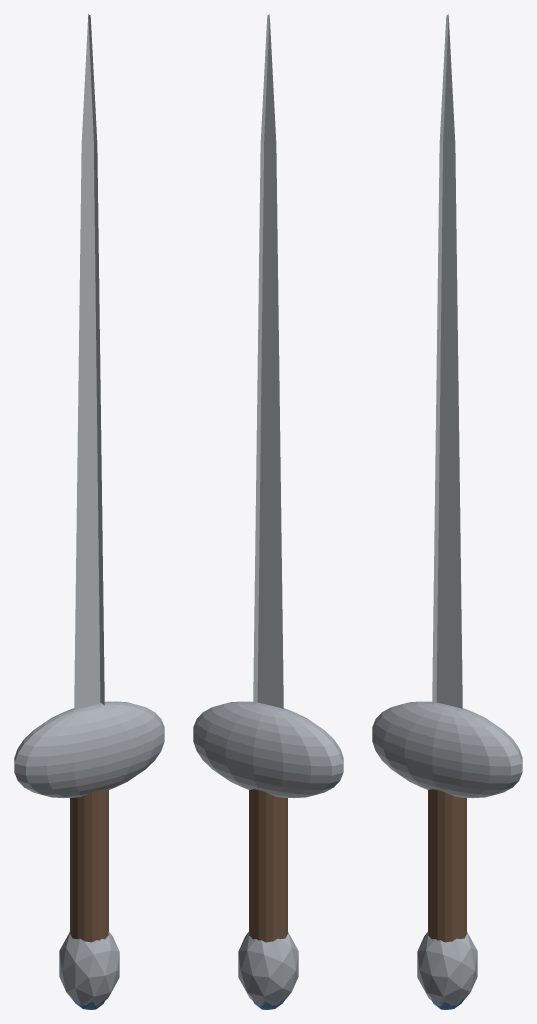
Rendered from steel_rapier_with_sapphire_gemstone.glb.
The picture shows the model from 3 angles, left to right: view 1: azimuth 30°, elevation 25°; view 2: azimuth 150°, elevation 25°; view 3: azimuth 330°, elevation 25°; orthographic projection.
Parts seen in each view (by area): view 1: sword_0_0, sword_0_1, sword_0_2, sword_0_3; view 2: sword_0_0, sword_0_1, sword_0_2, sword_0_3; view 3: sword_0_0, sword_0_1, sword_0_2, sword_0_3.
Part boxes in pixels (left/top/right/bottom): sword_0_0: left=74, top=14, right=104, bottom=708; sword_0_1: left=14, top=701, right=164, bottom=798; sword_0_2: left=70, top=789, right=108, bottom=942; sword_0_3: left=59, top=932, right=119, bottom=1006; sword_0_0: left=253, top=14, right=283, bottom=708; sword_0_1: left=193, top=701, right=343, bottom=798; sword_0_2: left=249, top=789, right=287, bottom=942; sword_0_3: left=238, top=932, right=298, bottom=1006; sword_0_0: left=432, top=14, right=462, bottom=708; sword_0_1: left=372, top=701, right=522, bottom=798; sword_0_2: left=428, top=789, right=466, bottom=942; sword_0_3: left=417, top=932, right=477, bottom=1006.
Bounding box in the file's own units: 0.7036 × 4.46 × 0.2569.
